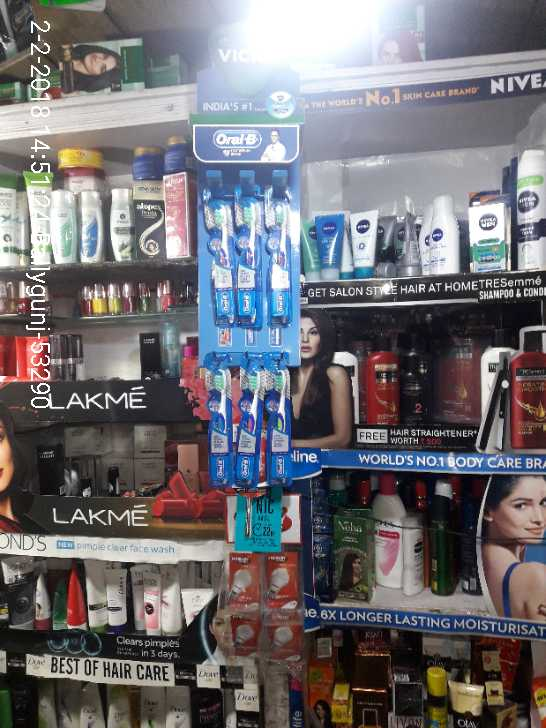oralb: (205, 189, 236, 323), (200, 366, 234, 488), (261, 371, 298, 479), (234, 370, 262, 480), (236, 201, 262, 315), (266, 204, 291, 317)
